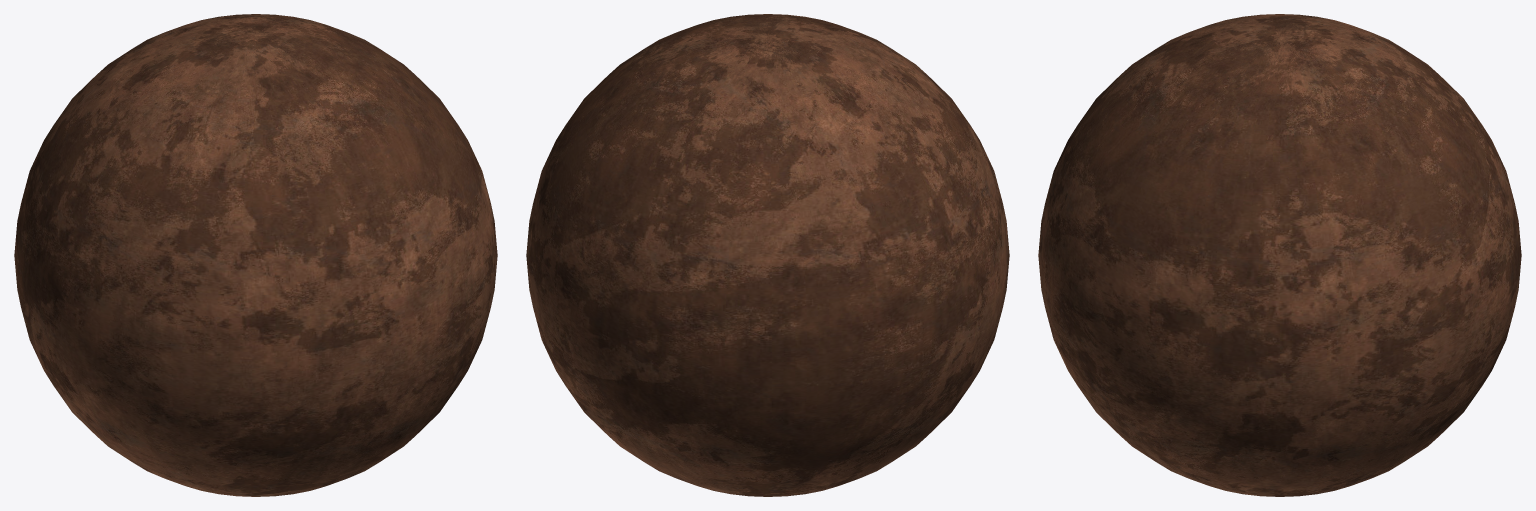
The picture shows the model from 3 angles, left to right: view 1: azimuth 30°, elevation 25°; view 2: azimuth 150°, elevation 25°; view 3: azimuth 270°, elevation 25°; orthographic projection.
Parts seen in each view (by area): view 1: Object_8.001; view 2: Object_8.001; view 3: Object_8.001.
Boxes of the visible parts, bbox=[...] form: Object_8.001: bbox=[14, 14, 497, 496]; Object_8.001: bbox=[526, 14, 1009, 496]; Object_8.001: bbox=[1038, 14, 1521, 496].
Bounding box in the file's own units: 2 × 2 × 2.
1 material, 1 textured.
